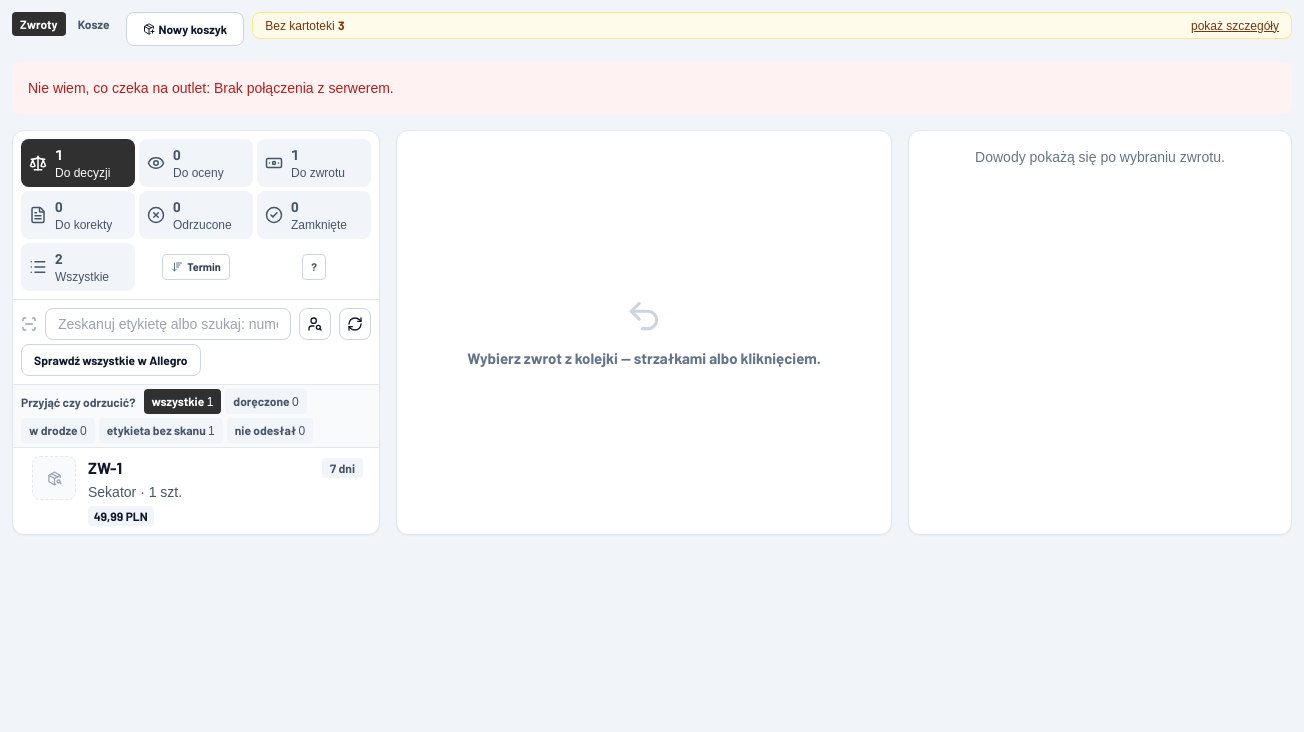
Test: Ekran zwrotów › DWA CZŁONY zawężają, choć trafiają w różne pola (0.367.0)
Type "kowalski" into the field with placeholder "Zeskanuj etykietę".
click(168, 324); type("kowalski")  # box [45,308,291,340]
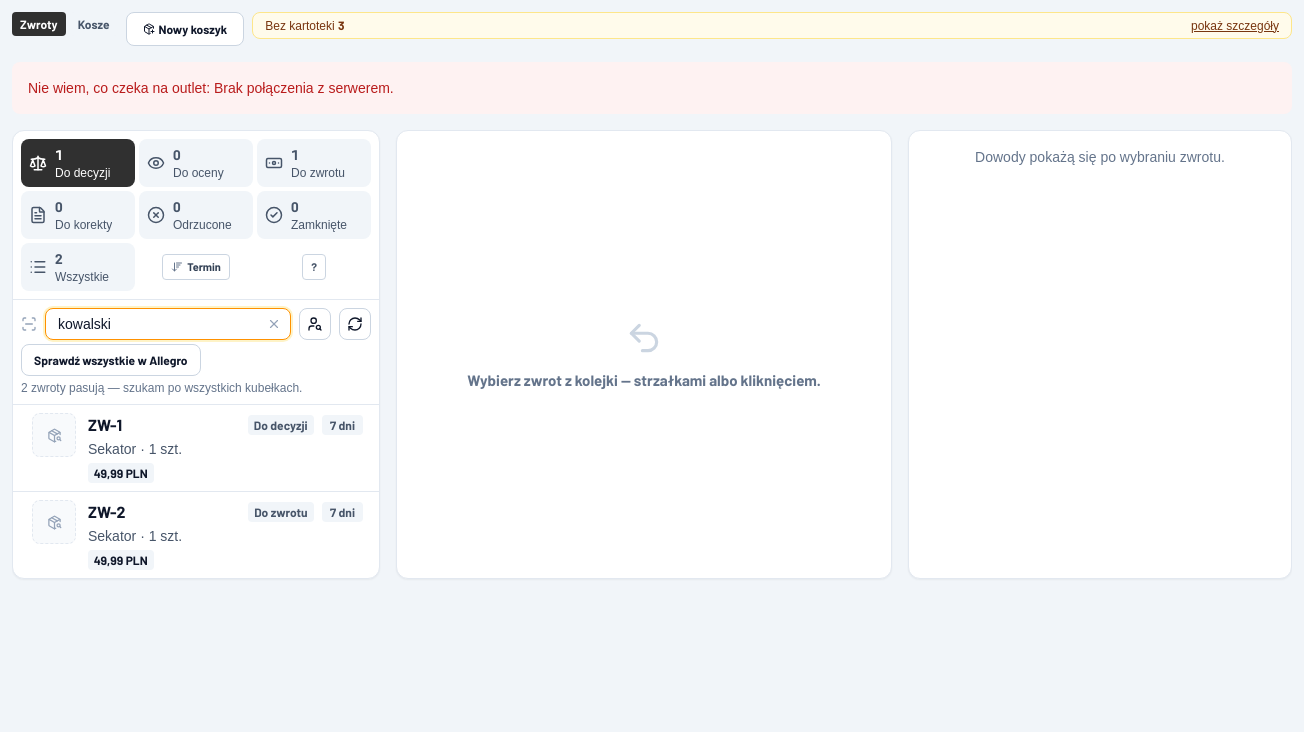
Now the text "2 zwroty pasują — szukam po wszystkich kubełkach." is shown, box [21,381,302,395]
Type " inpost" into the field with placeholder "Zeskanuj etykietę".
click(168, 324); type(" inpost")  # box [45,308,291,340]
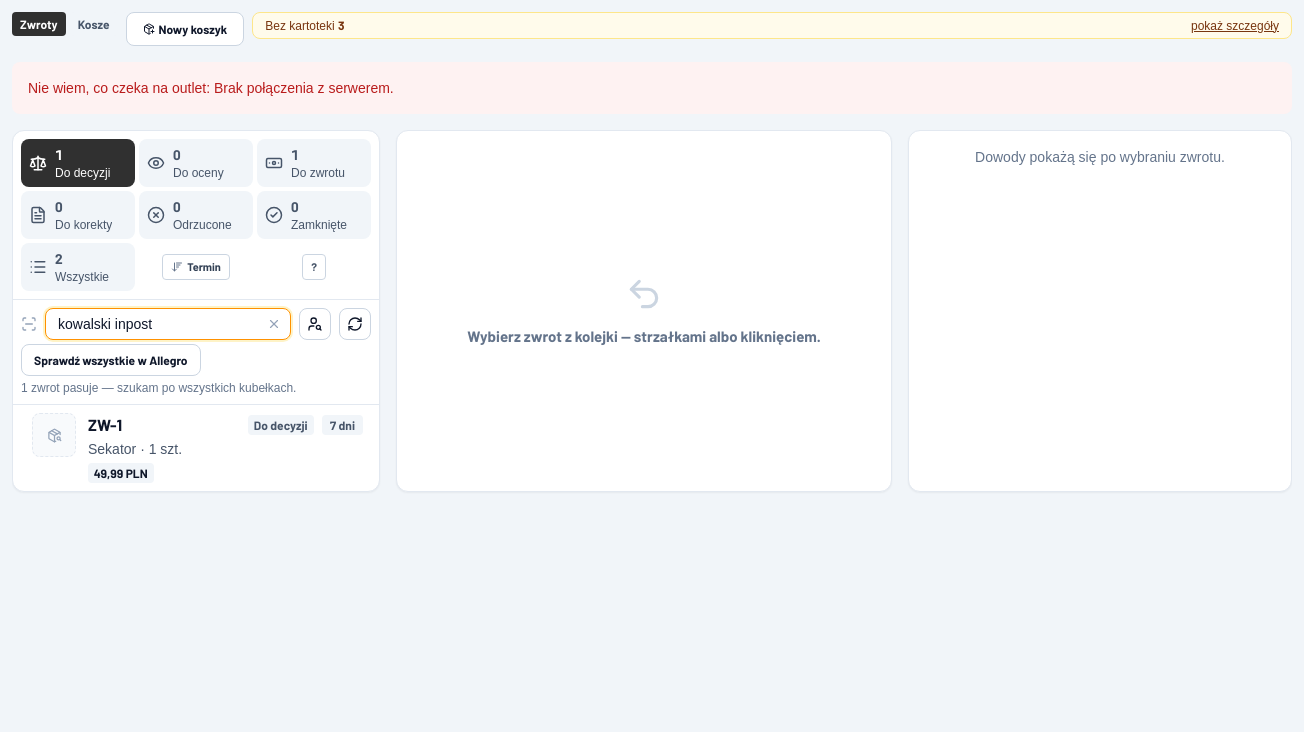
Now the text "1 zwrot pasuje — szukam po wszystkich kubełkach." is shown, box [21,381,296,395]
